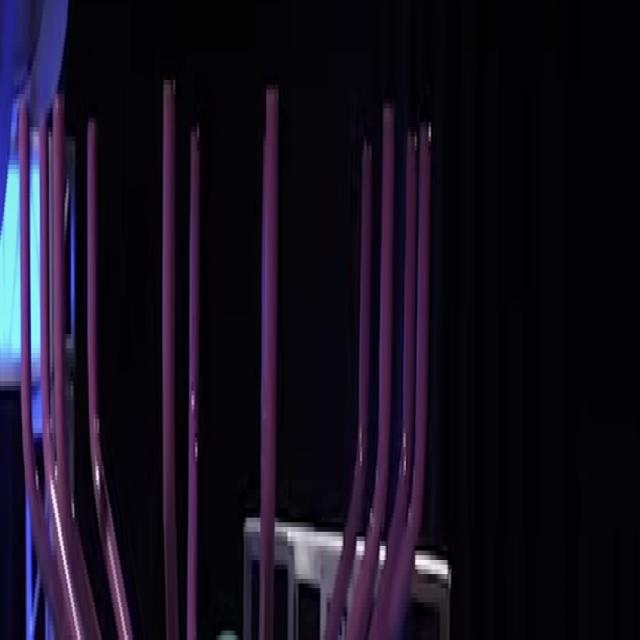Reef: (377, 109, 394, 532), (355, 144, 372, 494), (262, 89, 278, 451), (163, 83, 175, 516), (401, 132, 416, 469), (418, 124, 430, 492), (53, 94, 64, 478), (189, 130, 200, 494), (20, 102, 31, 462), (87, 123, 98, 480), (39, 116, 49, 452)
